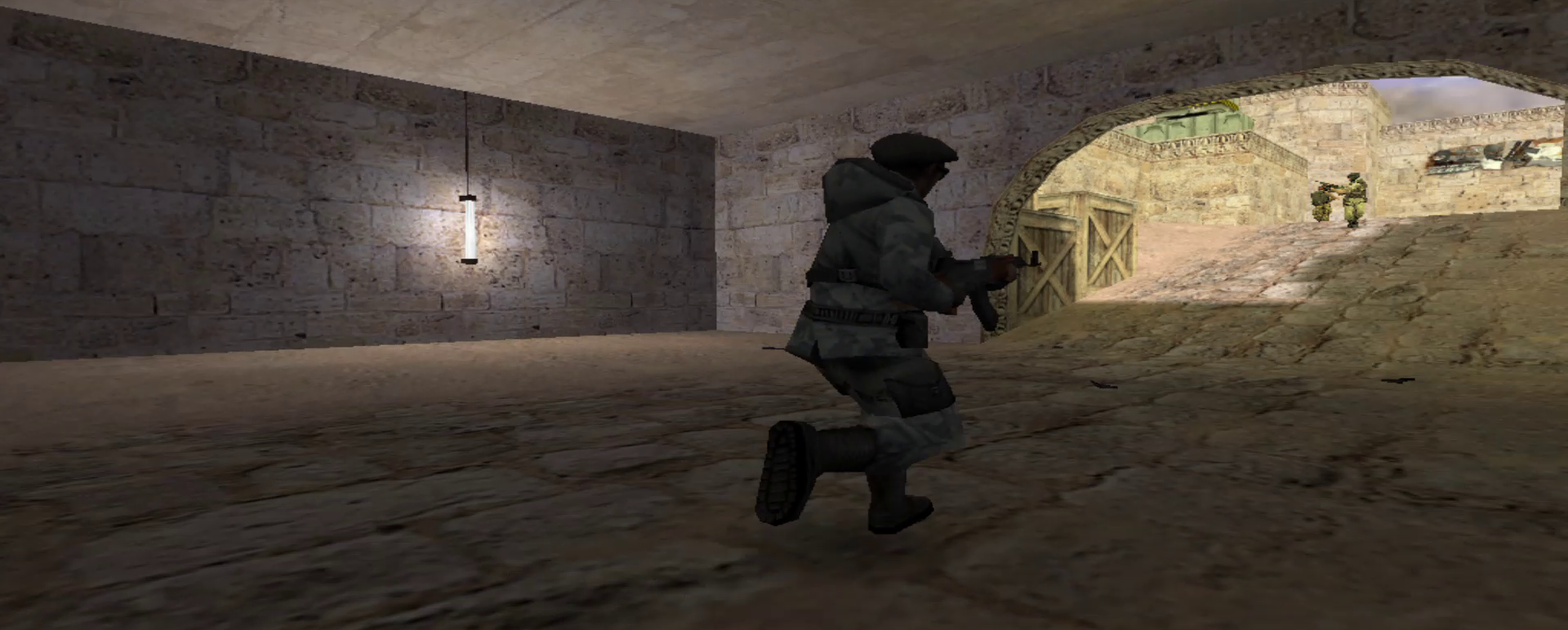ter: (790, 165, 961, 535), (1341, 172, 1367, 230), (1310, 183, 1334, 224)
ter_head: (866, 132, 955, 197)
